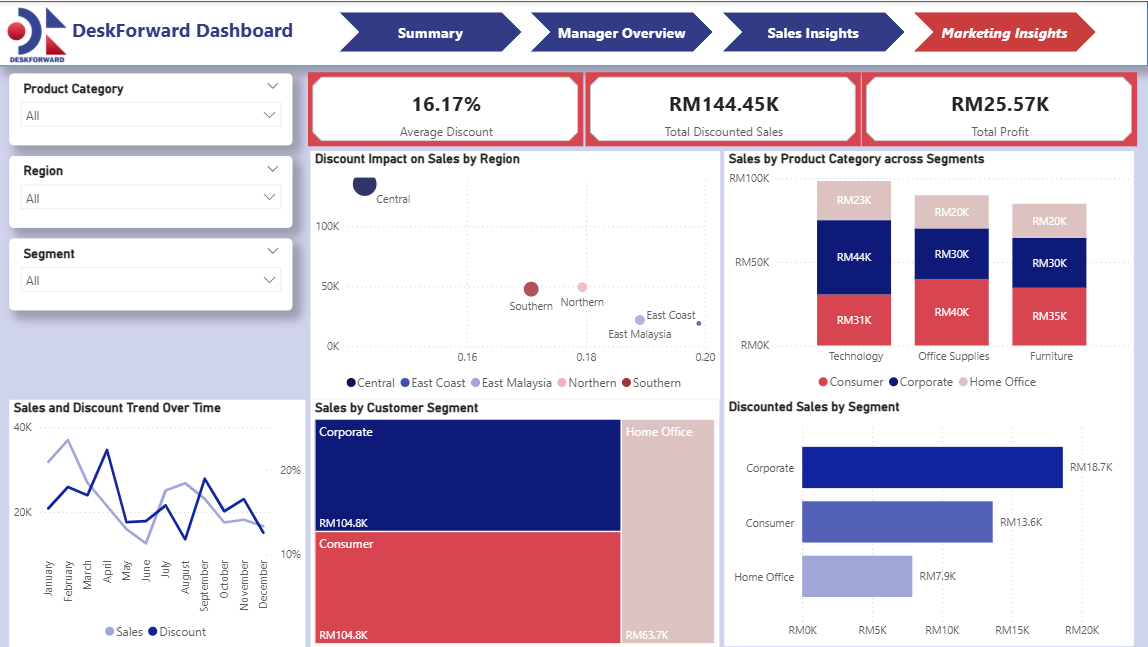

Layout of this report page (visuals, bound fields, positions):
{"tool":"powerbi","page":{"name":"Marketing Insights","canvas":[1280,720],"ordinal":3},"visuals":[{"type":"shape","box":[0,0,1280,72.6],"z":0},{"type":"textbox","box":[68.9,12.3,272,49.2],"z":1000},{"type":"image","box":[0,0,87.7,75.1],"z":2000},{"type":"slicer","fields":{"Values":["Product Data.Product Category"]},"box":[13,80,315,80],"z":3000},{"type":"slicer","fields":{"Values":["Customer Data.Region"]},"box":[13,173,315,80],"z":4000},{"type":"slicer","fields":{"Values":["Customer Data.Segment"]},"box":[13,265,315,80],"z":5000},{"type":"cardVisual","fields":{"Data":["Avg(Order Data.Discount)"]},"box":[345,79.2,306,82.5],"z":6000},{"type":"cardVisual","fields":{"Data":["Order Data.Total Discounted Sales"]},"box":[653.5,79,306,82.5],"z":7000},{"type":"cardVisual","fields":{"Data":["Order Data.Total Profit"]},"box":[962,79,306,82],"z":8000},{"type":"scatterChart","title":"Discount Impact on Sales by Region","fields":{"X":["Avg(Order Data.Discount)"],"Y":["Sum(Order Data.Sales)"],"Series":["Customer Data.Region"],"Size":["Sum(Order Data.Profit)"]},"box":[347.8,167,456.3,276.9],"z":9000},{"type":"columnChart","title":"Sales by Product Category across Segments","fields":{"Category":["Product Data.Product Category"],"Y":["Sum(Order Data.Sales)"],"Series":["Customer Data.Segment"]},"box":[808.3,167,456.3,276],"z":10000},{"type":"pageNavigator","box":[380.3,12.3,844.3,44.3],"z":11000},{"type":"treemap","title":"Sales by Customer Segment","fields":{"Values":["Sum(Order Data.Sales)"],"Details":["Customer Data.Segment"]},"box":[347.8,443.8,455,276.9],"z":12000},{"type":"clusteredBarChart","fields":{"Y":["Order Data.Discounted Sales"],"Category":["Customer Data.Segment"]},"box":[808.3,442.4,456.3,276.9],"z":13000},{"type":"lineChart","title":"Sales and Discount Trend Over Time","fields":{"Category":["Order Data.Order Date.Variation.Date Hierarchy.Month"],"Y":["Sum(Order Data.Sales)"],"Y2":["Order Data.Average Discount"]},"box":[12.5,443.8,329.7,276.9],"z":14000}]}

Visuals, with their boxes in screenshot pixels (x1, y1, x2, y2), scaled from the page's 1280x720 canvas onto the 1148x647 screenshot:
shape: <bbox>0, 0, 1147, 65</bbox>
textbox: <bbox>62, 11, 306, 55</bbox>
image: <bbox>0, 0, 79, 67</bbox>
slicer - Product Data.Product Category: <bbox>12, 72, 294, 144</bbox>
slicer - Customer Data.Region: <bbox>12, 155, 294, 227</bbox>
slicer - Customer Data.Segment: <bbox>12, 238, 294, 310</bbox>
cardVisual - Avg(Order Data.Discount): <bbox>309, 71, 584, 145</bbox>
cardVisual - Order Data.Total Discounted Sales: <bbox>586, 71, 861, 145</bbox>
cardVisual - Order Data.Total Profit: <bbox>863, 71, 1137, 145</bbox>
"Discount Impact on Sales by Region" scatterChart: <bbox>312, 150, 721, 399</bbox>
"Sales by Product Category across Segments" columnChart: <bbox>725, 150, 1134, 398</bbox>
pageNavigator: <bbox>341, 11, 1098, 51</bbox>
"Sales by Customer Segment" treemap: <bbox>312, 399, 720, 646</bbox>
clusteredBarChart - Order Data.Discounted Sales x Customer Data.Segment: <bbox>725, 398, 1134, 646</bbox>
"Sales and Discount Trend Over Time" lineChart: <bbox>11, 399, 307, 646</bbox>
